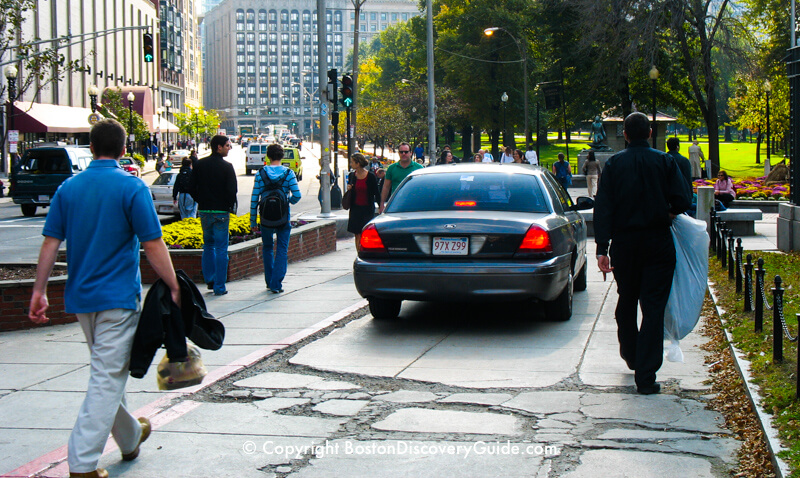car: (353, 164, 587, 323)
person: (48, 119, 159, 477), (186, 135, 235, 298), (248, 143, 298, 295), (344, 152, 377, 225), (380, 142, 421, 192)
